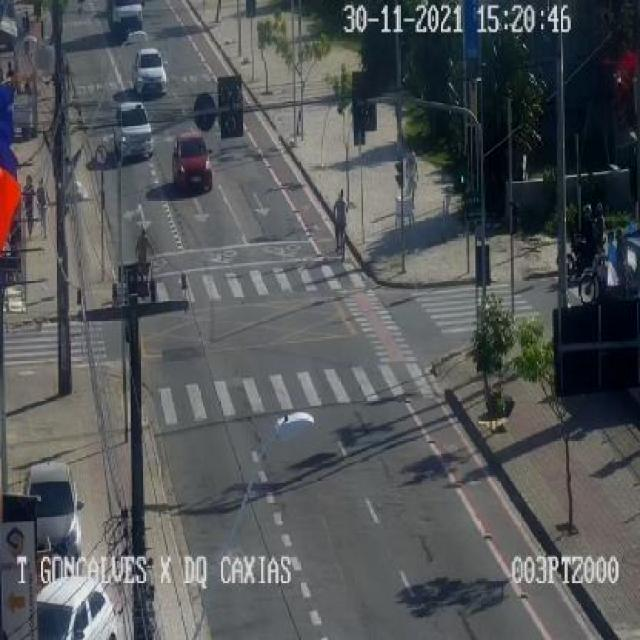Car: (26, 463, 84, 562), (38, 573, 116, 640), (169, 130, 213, 193), (113, 101, 152, 159), (130, 49, 166, 96)
Cycle: (579, 257, 635, 305), (560, 232, 602, 278), (330, 207, 351, 261)
Truck: (108, 0, 146, 34)
